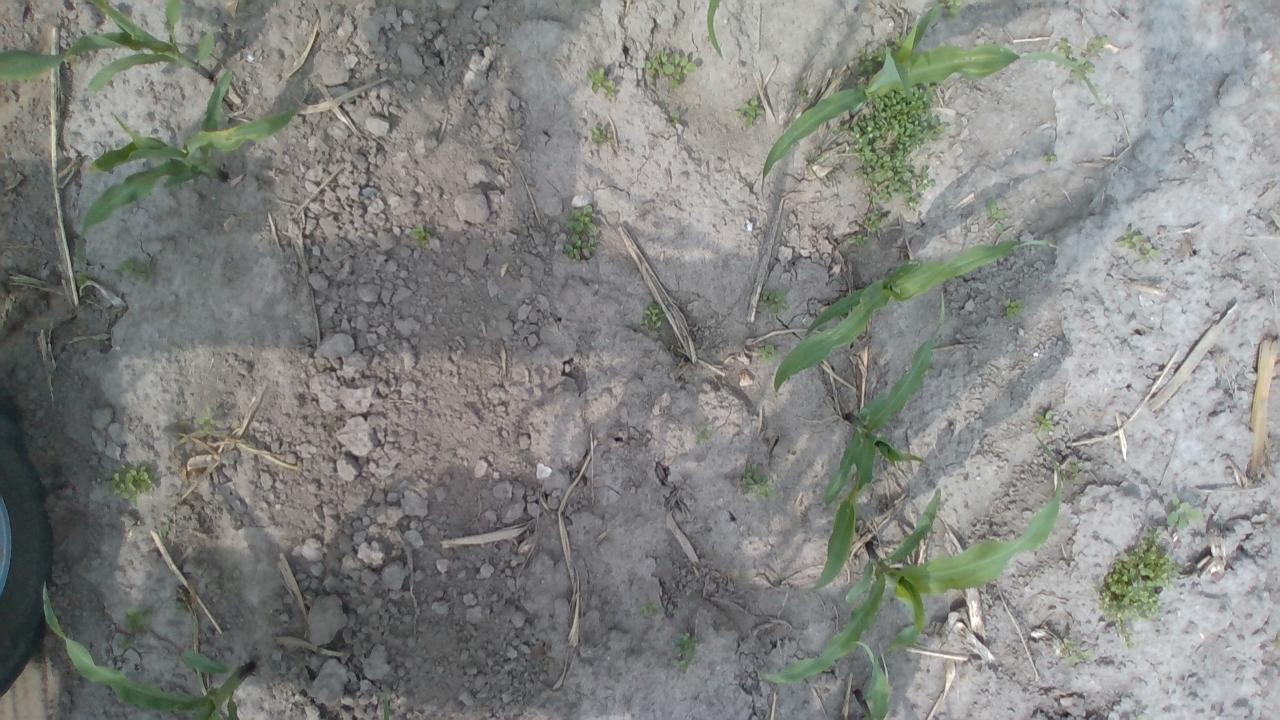Maize: (749, 431, 1067, 717), (760, 3, 1089, 208), (773, 236, 1062, 410), (794, 285, 946, 597), (76, 69, 300, 275), (41, 577, 258, 715), (1, 2, 230, 98), (704, 1, 733, 62)
Weeds: (840, 34, 950, 250), (1096, 502, 1212, 652), (108, 464, 158, 504), (112, 606, 156, 650), (1057, 34, 1102, 74), (1120, 222, 1163, 262), (566, 209, 599, 260), (645, 48, 694, 80), (671, 626, 700, 672), (738, 462, 771, 499), (1062, 638, 1093, 669), (987, 195, 1007, 236), (635, 598, 664, 626), (589, 66, 616, 94), (762, 286, 788, 310), (1058, 461, 1081, 488), (1036, 408, 1058, 435), (740, 99, 764, 122), (642, 306, 661, 335), (590, 119, 609, 146), (115, 260, 146, 274), (413, 224, 428, 250), (196, 416, 214, 435), (762, 342, 779, 360), (1008, 297, 1021, 317), (159, 524, 171, 541), (1044, 150, 1056, 164), (173, 602, 187, 614)
